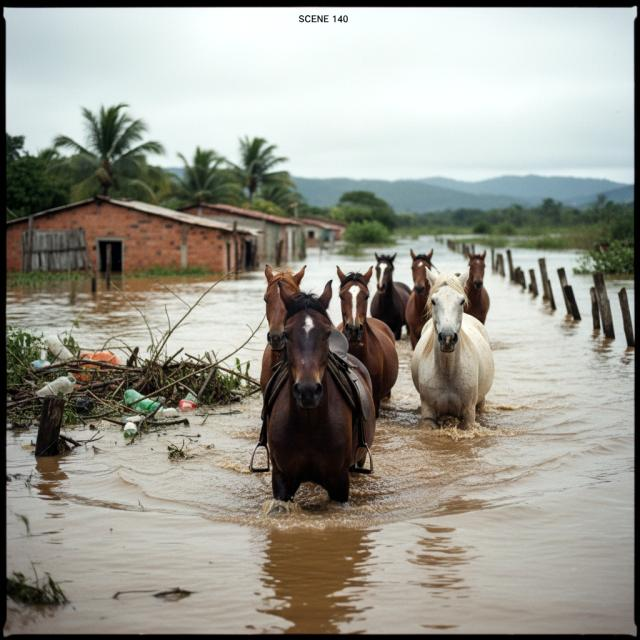horse: (262, 277, 379, 507), (410, 262, 501, 439), (327, 257, 406, 422), (251, 259, 323, 422), (367, 250, 418, 345), (402, 248, 447, 351), (461, 245, 491, 338)
